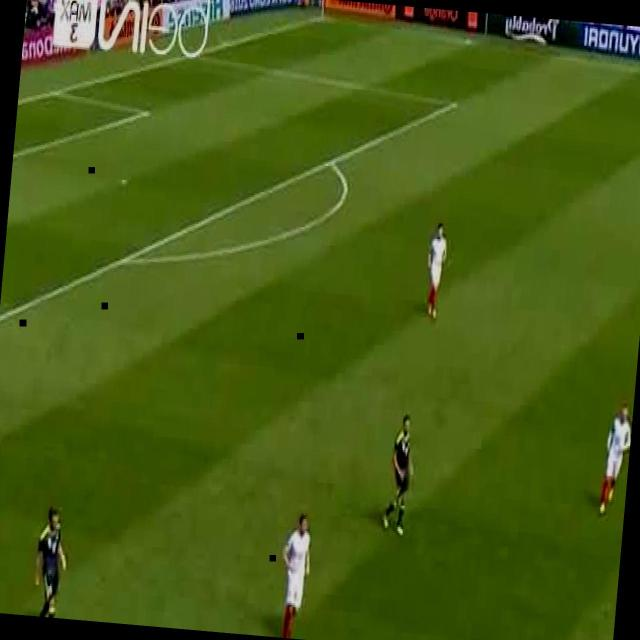player-white: (277, 509, 314, 640), (31, 507, 73, 619), (381, 412, 417, 536), (600, 399, 634, 515), (423, 223, 449, 319)
